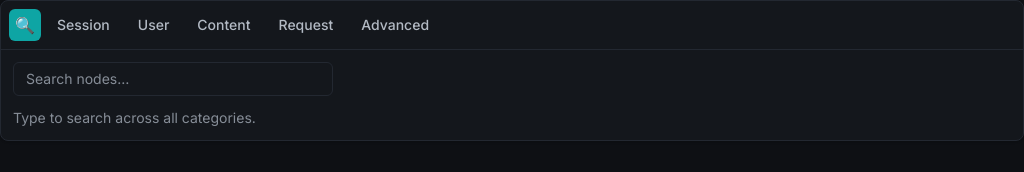
NodePalette (manifest-driven) › search 'device' shows only the Device Type chip
Click the tab named "Search nodes".
click(25, 25)  # box [9, 9, 41, 41]
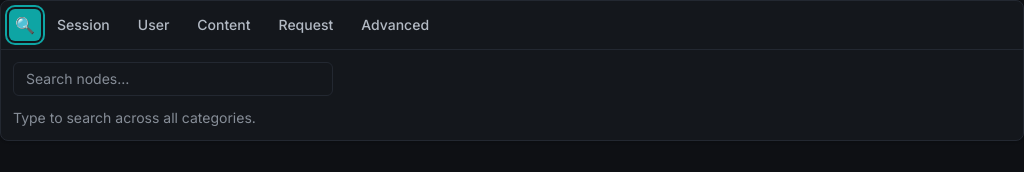
Type "device" into the search field with placeholder "Search nodes…".
click(173, 79); type("device")  # box [13, 62, 333, 96]
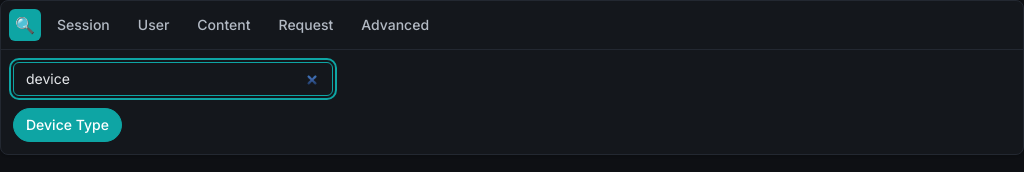
Result: the button "Device Type" is shown at [13, 108, 122, 142]
